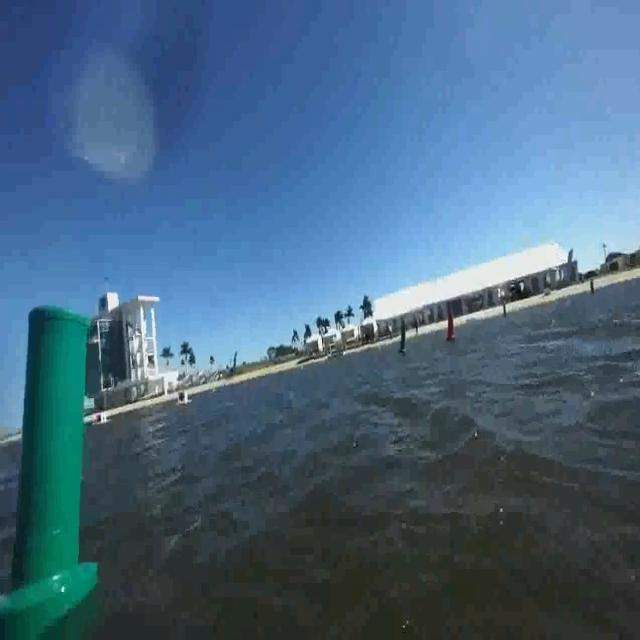green-column-buoy: (1, 302, 102, 635), (397, 318, 408, 358)
red-column-buoy: (447, 307, 458, 343)
